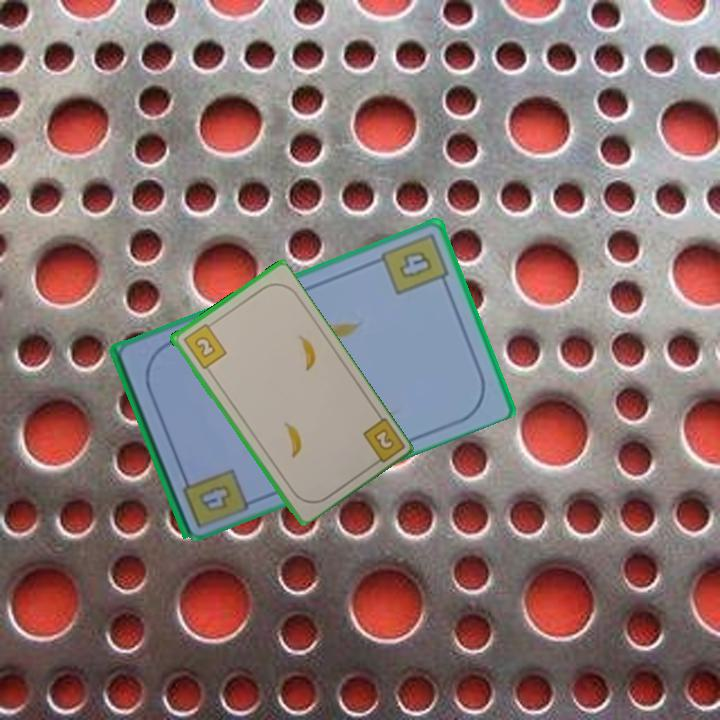2b: (179, 318, 229, 372), (359, 413, 405, 470)
4b: (377, 229, 452, 298), (195, 480, 235, 515)
